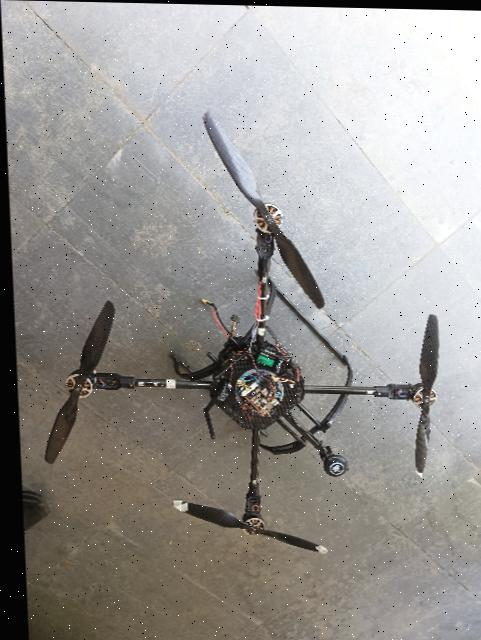drone: (4, 104, 469, 572)
